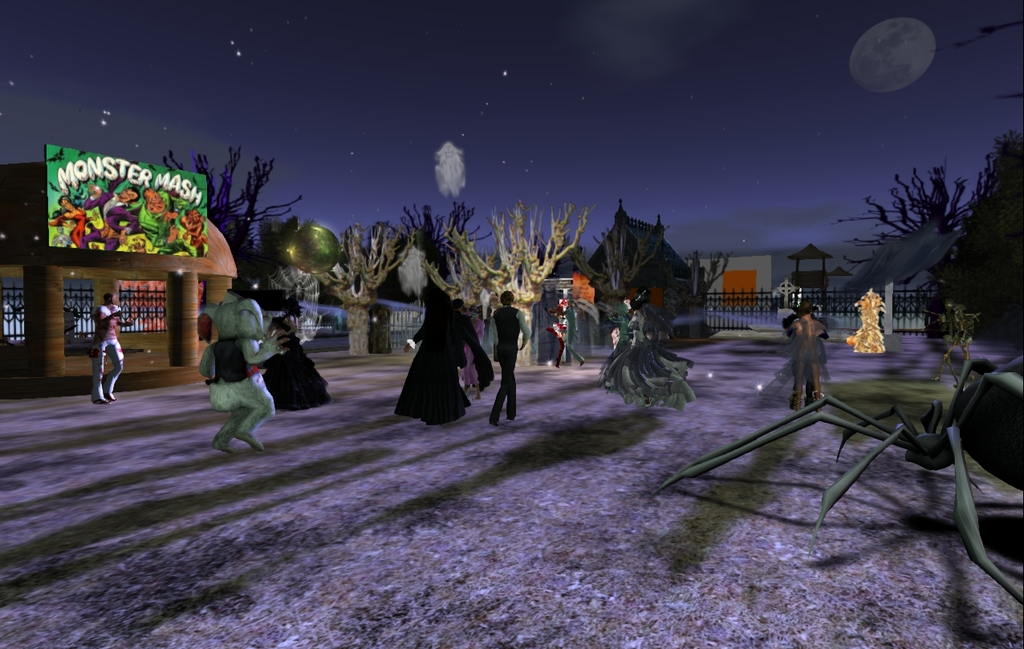Tree: (823, 123, 1023, 340), (422, 204, 592, 361), (154, 143, 304, 298), (300, 219, 411, 358), (567, 217, 665, 319), (383, 198, 493, 284), (667, 247, 744, 341)
